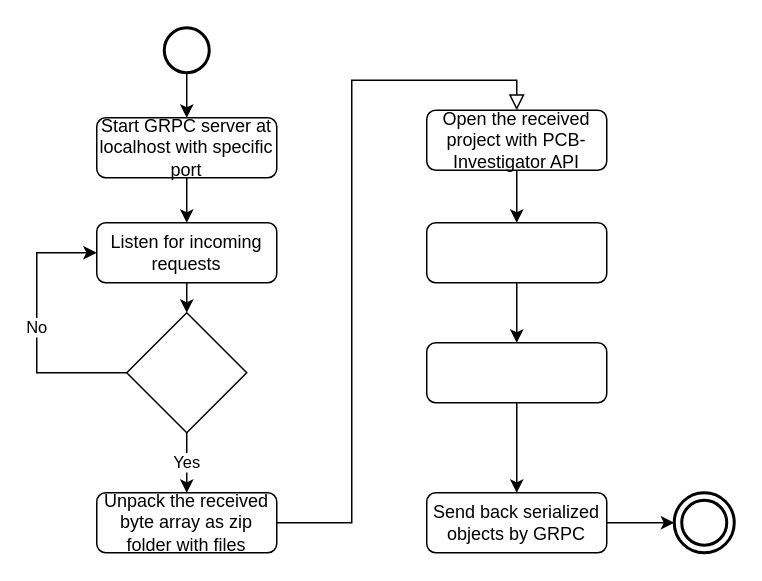
This 762x581 diagram has some shape labels left out. Each missing label, with the box of its shape:
Create interface related objects of project structure: (425, 221, 607, 283)
Create serializable objects for GRPC transfer: (425, 341, 607, 403)
Request received?: (125, 311, 247, 433)
